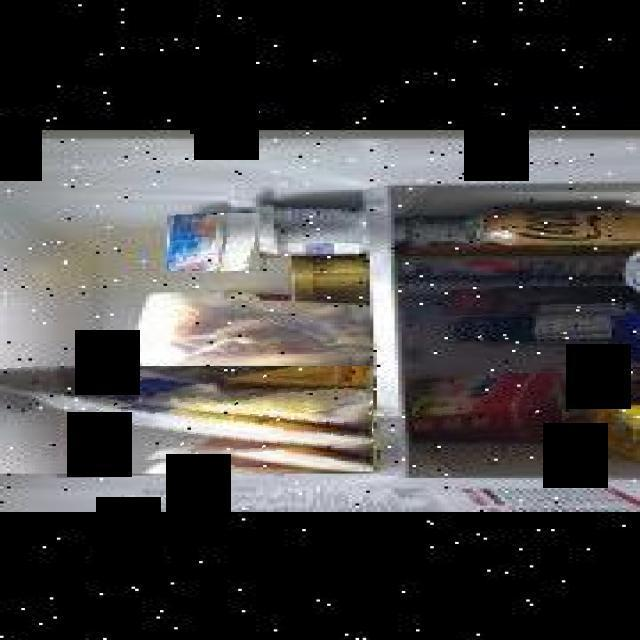butter: (412, 373, 562, 442)
cheese: (167, 213, 260, 269)
grated_cheese: (0, 366, 373, 471)
marmelade: (437, 286, 640, 311), (448, 314, 612, 341)
